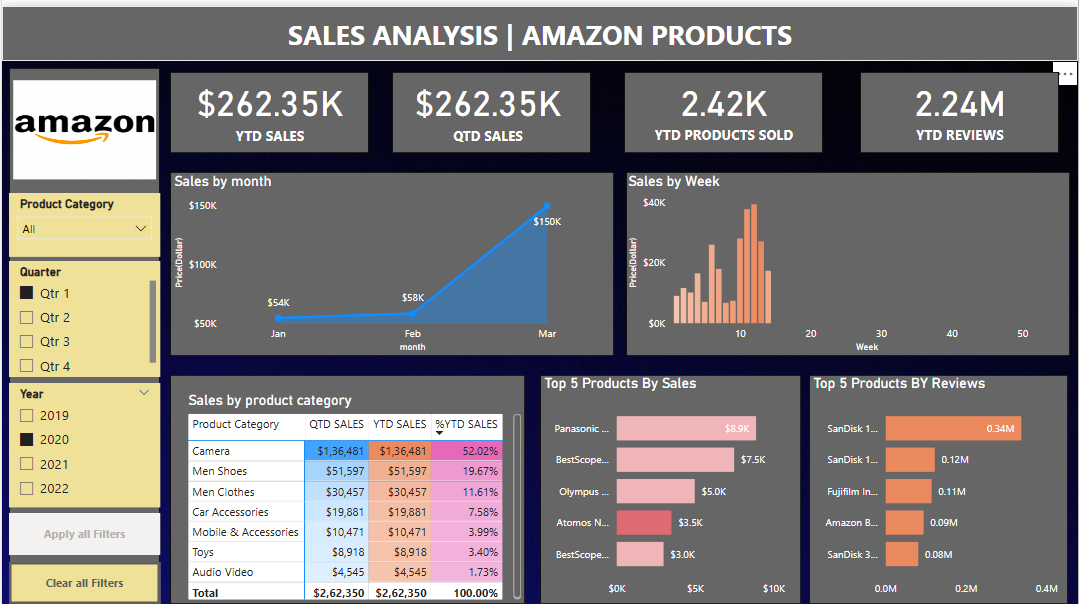

This screenshot's page, from the dashboard's own definition file:
{"tool":"powerbi","page":{"name":"Page 1","canvas":[1280,720],"ordinal":0},"visuals":[{"type":"shape","box":[0,0,1280,65.4],"z":0},{"type":"shape","box":[199.9,197.5,528.2,218.9],"z":0,"group":"g1"},{"type":"shape","box":[8.3,73.8,179.6,637.6],"z":1000},{"type":"areaChart","title":"Sales by month","fields":{"Category":["Calendar.month name"],"Y":["Sum(Amazon_Data.Price(Dollar))"]},"box":[199.9,198.7,517.5,217.7],"z":1000,"group":"g1"},{"type":"shape","box":[199.9,78.5,236.7,96.4],"z":2000,"group":"g2"},{"type":"shape","box":[742.3,197.5,528.2,218.9],"z":2000},{"type":"card","fields":{"Values":["Amazon_Data.YTD SALES"]},"box":[220.1,70.2,197.5,104.7],"z":3000,"group":"g2"},{"type":"columnChart","title":"Sales by Week","fields":{"Category":["Calendar.Week"],"Y":["Sum(Amazon_Data.Price(Dollar))"]},"box":[739.9,198.7,528.2,217.7],"z":3000},{"type":"shape","box":[740.3,78.5,236.7,96.4],"z":4000},{"type":"shape","box":[463.9,78.5,236.7,96.4],"z":5000},{"type":"group","id":"g1","title":"Group 2","box":[199.9,197.5,528.2,218.9],"z":6000},{"type":"slicer","fields":{"Values":["Amazon_Data.Product Category"]},"box":[8.3,222.5,179.6,76.1],"z":7000},{"type":"shape","box":[199.9,439,422.3,272.4],"z":8000},{"type":"pivotTable","title":"Sales by product category","fields":{"Rows":["Amazon_Data.Product Category"],"Values":["Amazon_Data.QTD SALES","Amazon_Data.YTD SALES1","Amazon_Data.YTD SALES"]},"box":[216.5,459.2,405.7,252.2],"z":9000},{"type":"card","fields":{"Values":["Amazon_Data.QTD SALES"]},"box":[479.4,70.2,197.5,104.7],"z":10000},{"type":"shape","box":[640,439,310.5,272.4],"z":11000},{"type":"shape","box":[960,439,308.1,272.4],"z":12000},{"type":"barChart","title":"Top 5 Products By Sales","fields":{"Category":["Amazon_Data.Product Description"],"Y":["Amazon_Data.YTD SALES"]},"box":[640,439,310.5,272.4],"z":13000},{"type":"barChart","title":"Top 5 Products BY Reviews","fields":{"Category":["Amazon_Data.Product Description"],"Y":["Amazon_Data.YTD REVIEWS"]},"box":[960,439,310.5,272.4],"z":14000},{"type":"shape","box":[1020.7,78.5,236.7,96.4],"z":15000},{"type":"card","fields":{"Values":["Amazon_Data.YTD PRODUCTS SOLD"]},"box":[725.7,46.4,266.5,151.1],"z":16000},{"type":"card","fields":{"Values":["Amazon_Data.YTD REVIEWS"]},"box":[1006.4,46.4,266.5,151.1],"z":17000},{"type":"group","id":"g2","title":"Group 1","box":[199.9,70.2,236.7,104.7],"z":18000},{"type":"slicer","fields":{"Values":["Calendar.Date.Variation.Date Hierarchy.Quarter"]},"box":[8.3,303.3,179.6,138],"z":19000},{"type":"slicer","fields":{"Values":["Calendar.Date.Variation.Date Hierarchy.Year"]},"box":[8.3,448.5,179.6,147.5],"z":20000},{"type":"actionButton","box":[8.3,661.4,179.6,50],"z":21000},{"type":"actionButton","box":[8.3,603.1,179.6,50],"z":22000},{"type":"image","box":[8.3,83.3,179.6,128.5],"z":23000}]}

Visuals, with their boxes in screenshot pixels (x1, y1, x2, y2), scaled from the page's 1280x720 canvas onto the 1084x604 screenshot:
shape: crop(0, 0, 1083, 55)
shape: crop(169, 166, 617, 349)
shape: crop(7, 62, 159, 597)
"Sales by month" areaChart: crop(169, 167, 608, 349)
shape: crop(169, 66, 370, 147)
shape: crop(629, 166, 1076, 349)
card - Amazon_Data.YTD SALES: crop(186, 59, 354, 147)
"Sales by Week" columnChart: crop(627, 167, 1074, 349)
shape: crop(627, 66, 827, 147)
shape: crop(393, 66, 593, 147)
"Group 2" group: crop(169, 166, 617, 349)
slicer - Amazon_Data.Product Category: crop(7, 187, 159, 250)
shape: crop(169, 368, 527, 597)
"Sales by product category" pivotTable: crop(183, 385, 527, 597)
card - Amazon_Data.QTD SALES: crop(406, 59, 573, 147)
shape: crop(542, 368, 805, 597)
shape: crop(813, 368, 1074, 597)
"Top 5 Products By Sales" barChart: crop(542, 368, 805, 597)
"Top 5 Products BY Reviews" barChart: crop(813, 368, 1076, 597)
shape: crop(864, 66, 1065, 147)
card - Amazon_Data.YTD PRODUCTS SOLD: crop(615, 39, 840, 166)
card - Amazon_Data.YTD REVIEWS: crop(852, 39, 1078, 166)
"Group 1" group: crop(169, 59, 370, 147)
slicer - Calendar.Date.Variation.Date Hierarchy.Quarter: crop(7, 254, 159, 370)
slicer - Calendar.Date.Variation.Date Hierarchy.Year: crop(7, 376, 159, 500)
actionButton: crop(7, 555, 159, 597)
actionButton: crop(7, 506, 159, 548)
image: crop(7, 70, 159, 178)
